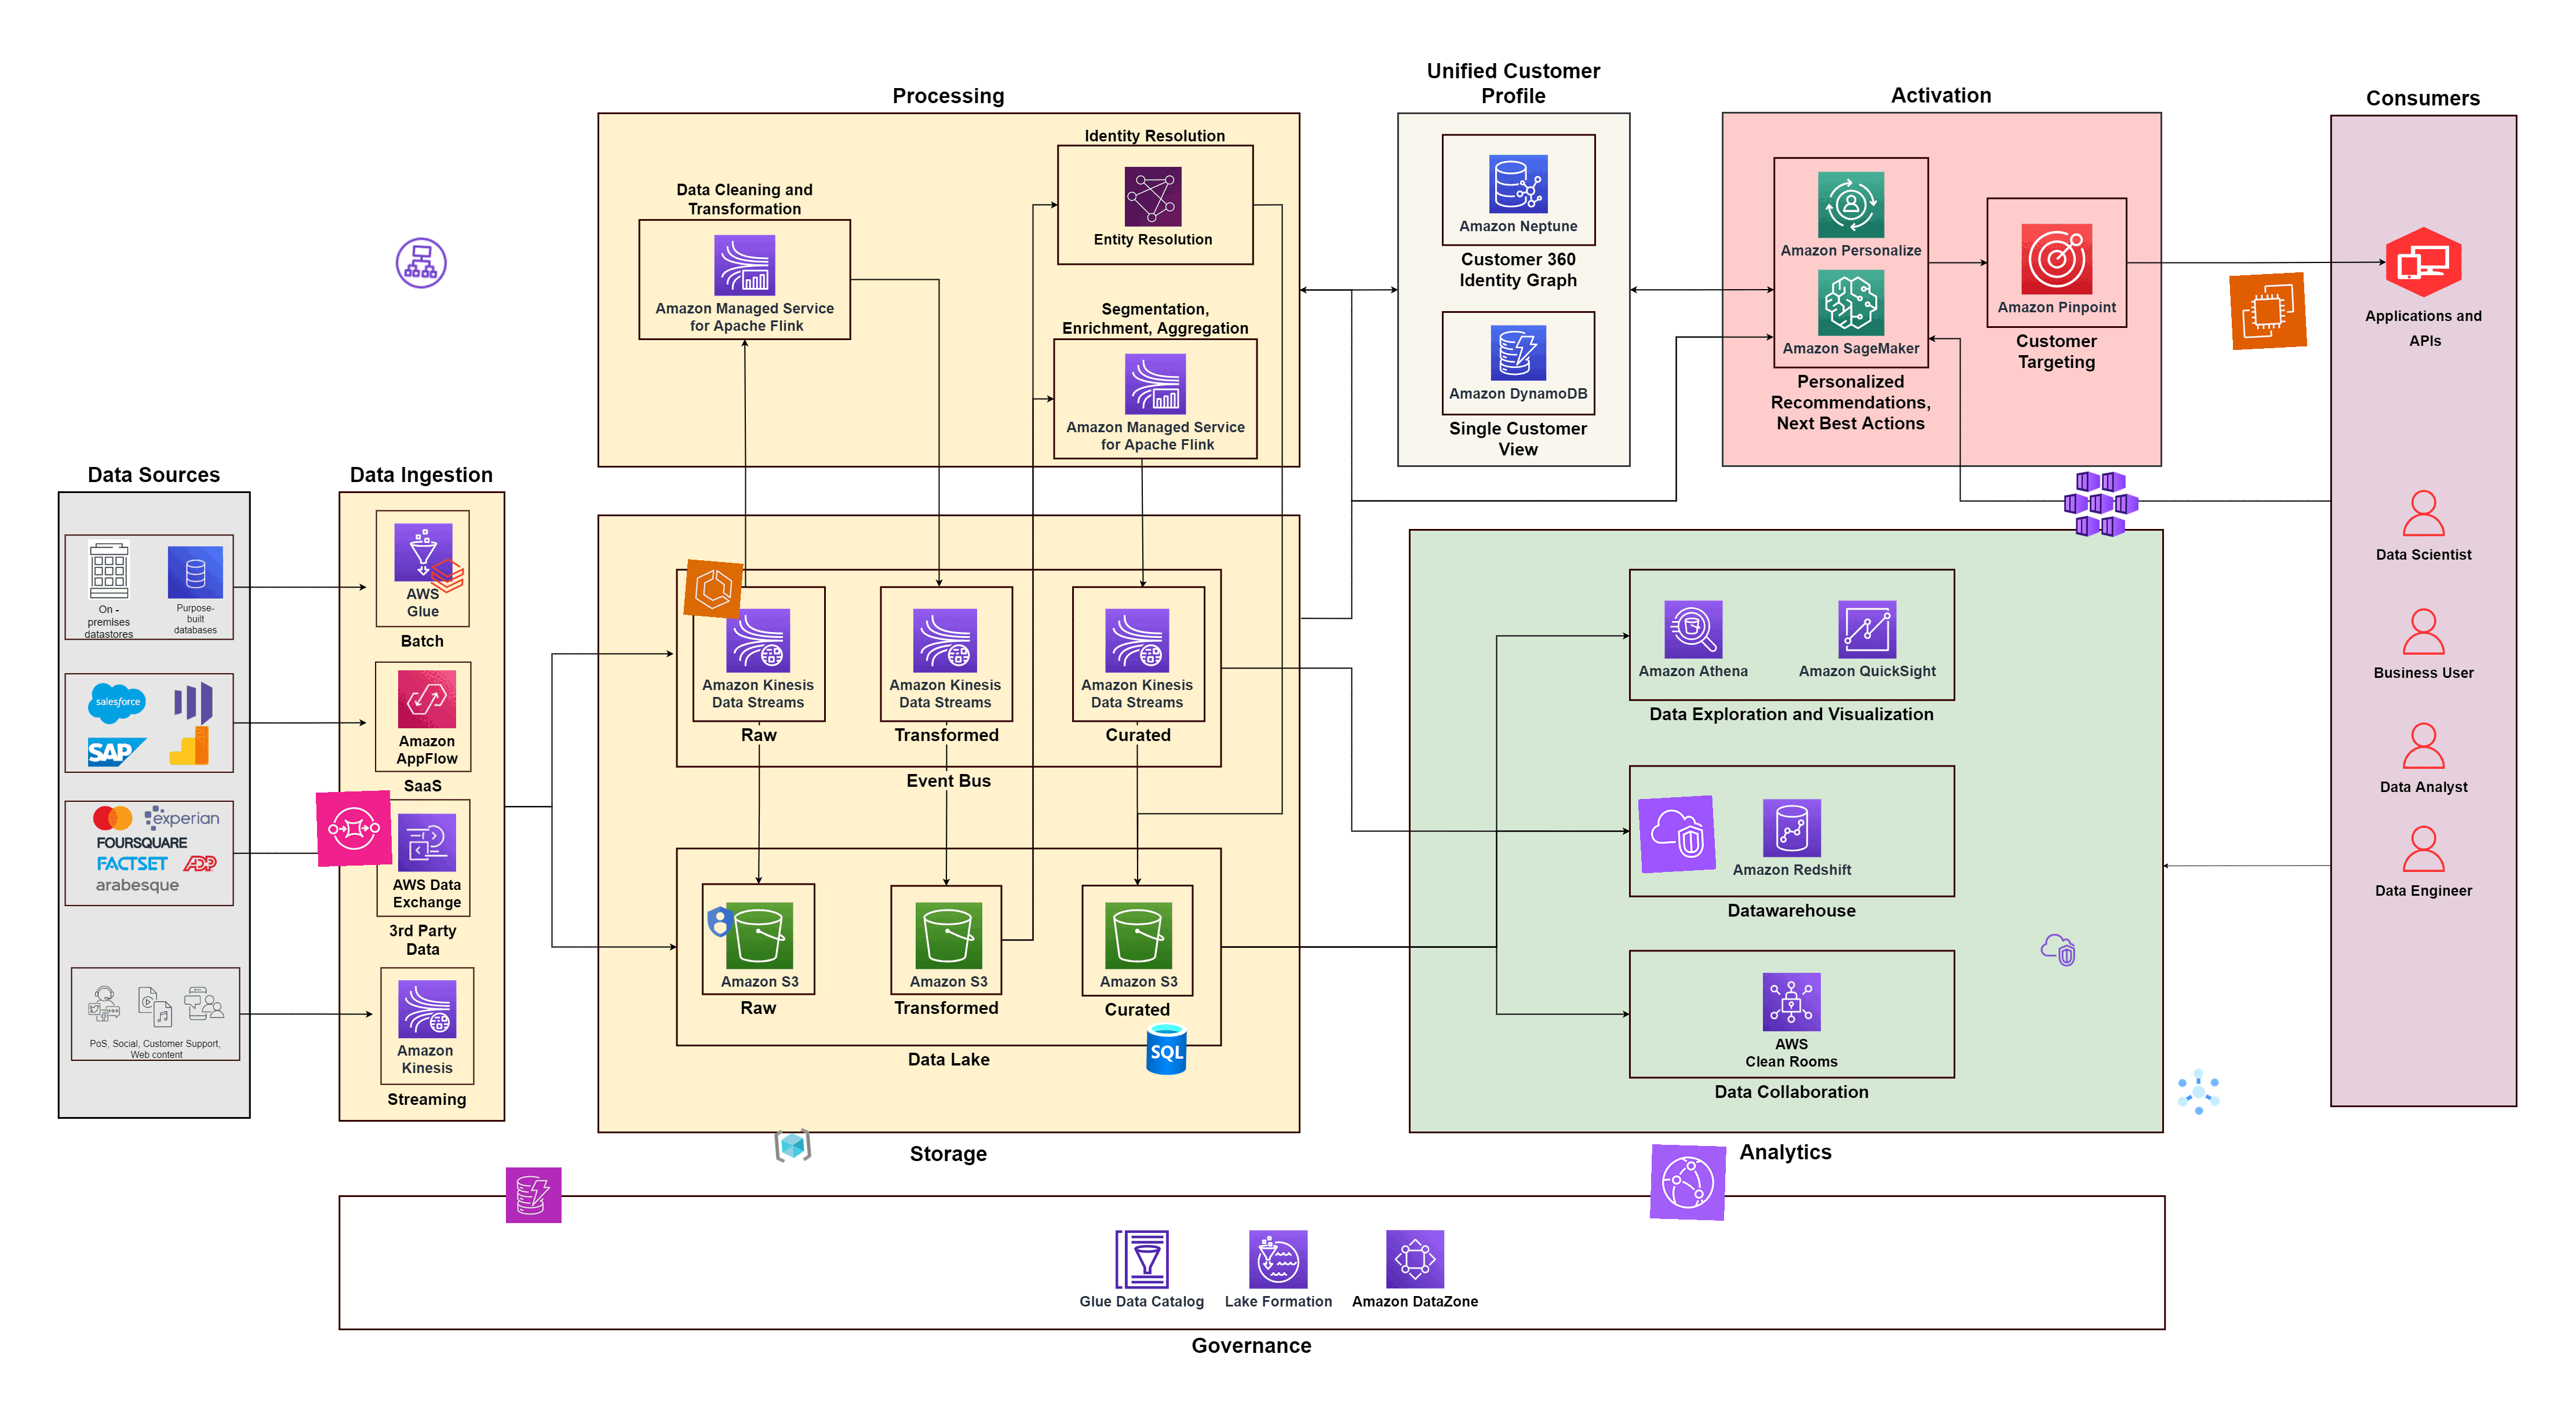aws_amazon_cloudfront: (1650, 1144, 1727, 1221)
aws_amazon_dynamodb: (506, 1167, 562, 1224)
aws_amazon_ec2: (2229, 272, 2307, 351)
aws_amazon_elastic_container_service: (684, 560, 743, 619)
aws_amazon_simple_queue_service: (316, 790, 392, 867)
aws_amazon_virtual_private_cloud: (1638, 795, 1716, 874)
aws_elastic_load_balancing_application_load_balancer: (392, 234, 452, 293)
aws_vpc_virtual_private_cloud_vpc: (2039, 931, 2077, 970)
azure_databricks: (427, 556, 467, 596)
azure_kubernetes_services: (2063, 466, 2138, 541)
azure_resource_groups: (773, 1125, 813, 1165)
azure_sql_database: (1137, 1020, 1196, 1078)
gcp_identity_and_access_management: (701, 903, 739, 942)
gcp_pubsub: (2170, 1064, 2227, 1120)
